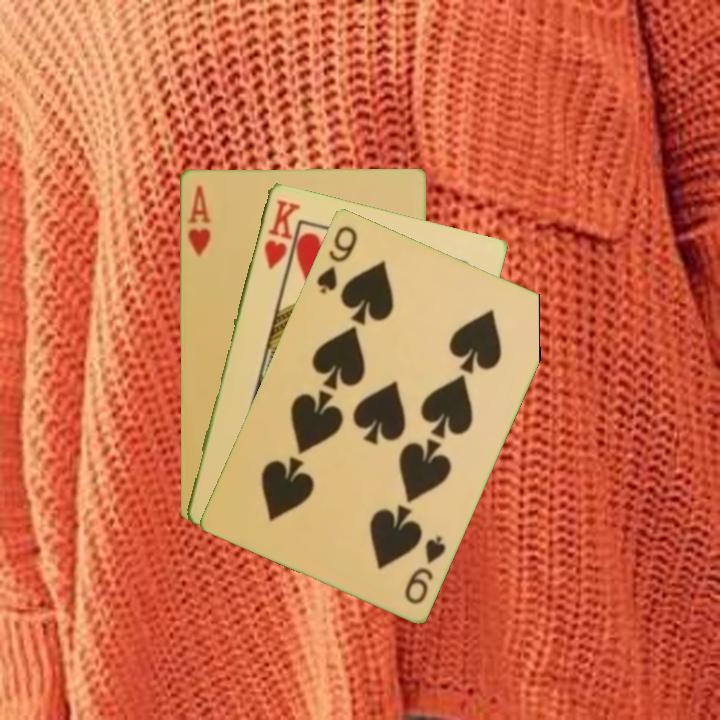9s: (400, 532, 449, 607), (313, 221, 360, 297)
Ah: (183, 181, 213, 259)
Kh: (260, 195, 302, 271)
